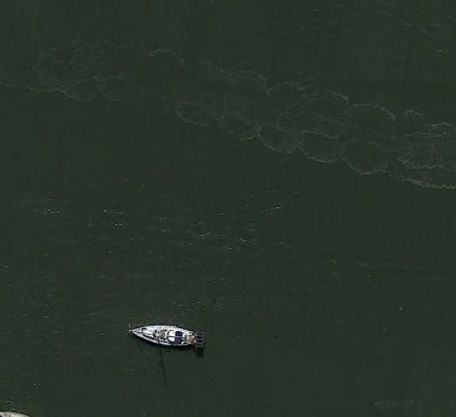boat: (128, 322, 203, 350)
